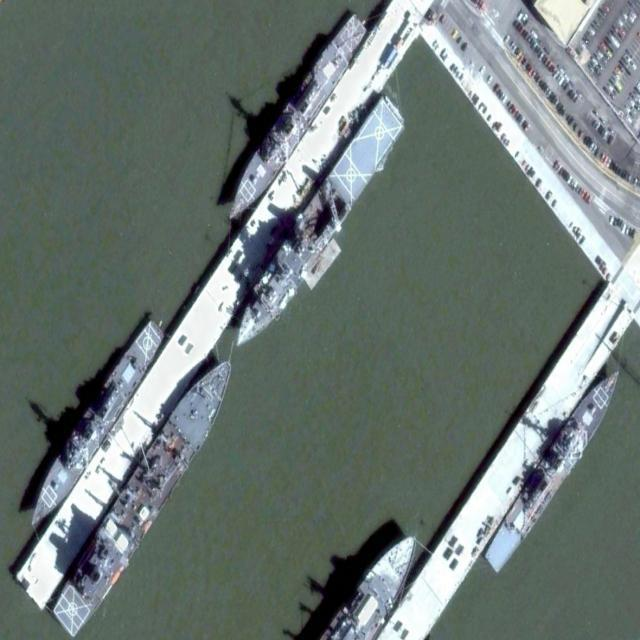Commander: (53, 343, 245, 635)
Destroyer: (219, 8, 371, 234), (479, 355, 629, 579), (21, 311, 168, 538)
Landing: (223, 87, 409, 364)
